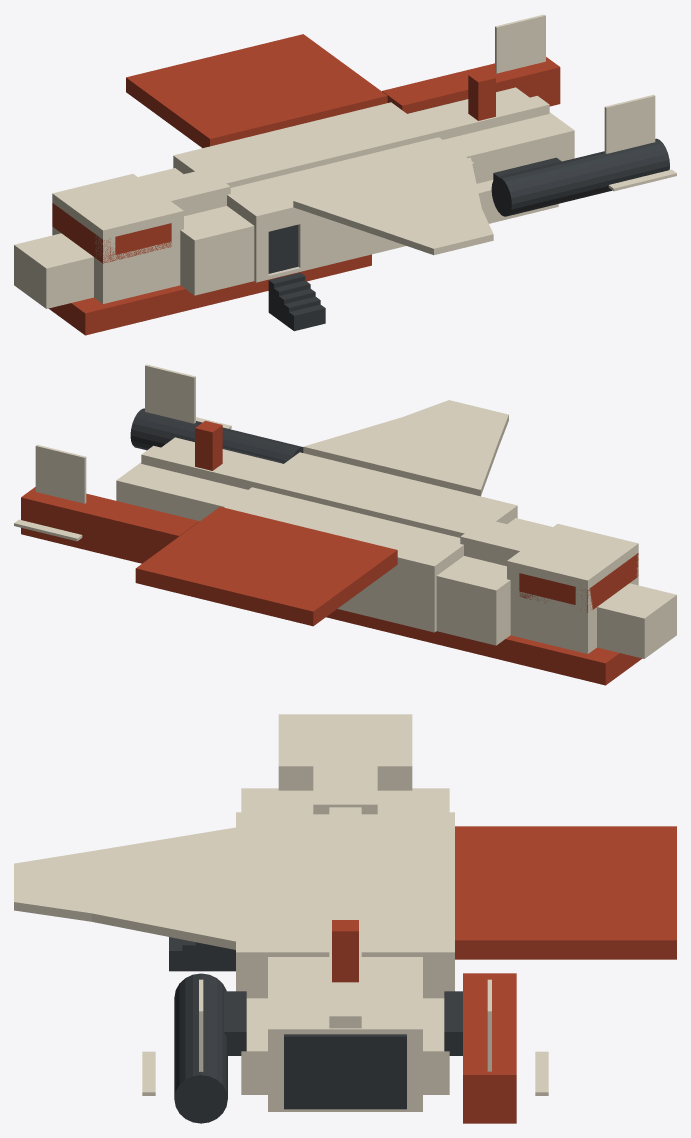
Rendered from kestrel_blockout.glb.
3 renders of one model, top to bottom at view 1: azimuth 30°, elevation 25°; view 2: azimuth 150°, elevation 25°; view 3: azimuth 270°, elevation 25°, orthographic. The views are drawn at different scales.
Parts seen in each view (by area): view 1: Shell-col, wing_damaged_placeholder, Wing_starboard, Engine_starboard, Spine, landing_gear_damaged_placeholder, engine_damaged_placeholder, canopy_damaged_placeholder, Fin_starboard, Fin_port, Floor_workshop, navigation_damaged_placeholder (+3 smaller); view 2: Shell-col, wing_damaged_placeholder, Wing_starboard, engine_damaged_placeholder, Spine, landing_gear_damaged_placeholder, Engine_starboard, Fin_port, Fin_starboard, canopy_damaged_placeholder, navigation_damaged_placeholder, Stabiliser_port; view 3: Shell-col, wing_damaged_placeholder, Wing_starboard, AftRamp, engine_damaged_placeholder, Engine_starboard, Spine, navigation_damaged_placeholder, Pylon_starboard, Pylon_port, Stabiliser_port, Stabiliser_starboard.
Boxes of the visible parts, <box> form: Shell-col: <box>14,87,574,308</box>; wing_damaged_placeholder: <box>126,34,387,148</box>; Wing_starboard: <box>293,157,493,255</box>; Engine_starboard: <box>491,138,669,216</box>; Spine: <box>214,95,549,187</box>; landing_gear_damaged_placeholder: <box>48,254,371,335</box>; engine_damaged_placeholder: <box>382,57,560,113</box>; canopy_damaged_placeholder: <box>52,203,171,263</box>; Fin_starboard: <box>604,94,655,153</box>; Fin_port: <box>495,14,545,73</box>; Floor_workshop: <box>268,224,298,273</box>; navigation_damaged_placeholder: <box>468,70,495,120</box>; Shell-col: <box>116,437,676,658</box>; wing_damaged_placeholder: <box>135,506,397,626</box>; Wing_starboard: <box>303,400,508,496</box>; engine_damaged_placeholder: <box>21,487,199,563</box>; Spine: <box>141,445,476,537</box>; landing_gear_damaged_placeholder: <box>326,609,642,685</box>; Engine_starboard: <box>130,408,303,463</box>; Fin_port: <box>35,444,86,503</box>; Fin_starboard: <box>145,364,195,423</box>; canopy_damaged_placeholder: <box>519,553,638,612</box>; navigation_damaged_placeholder: <box>195,420,222,470</box>; Stabiliser_port: <box>14,519,82,541</box>; Shell-col: <box>236,714,454,1111</box>; wing_damaged_placeholder: <box>455,826,676,959</box>; Wing_starboard: <box>14,827,235,949</box>; AftRamp: <box>284,1034,406,1109</box>; engine_damaged_placeholder: <box>463,973,516,1123</box>; Engine_starboard: <box>174,973,227,1123</box>; Spine: <box>329,807,361,1028</box>; navigation_damaged_placeholder: <box>332,920,358,982</box>; Pylon_starboard: <box>224,991,246,1055</box>; Pylon_port: <box>444,991,462,1055</box>; Stabiliser_port: <box>535,1051,548,1095</box>; Stabiliser_starboard: <box>142,1051,155,1095</box>.
Size of what is drawn, in the model's own units: 32.7 by 7.8 by 24.8.
